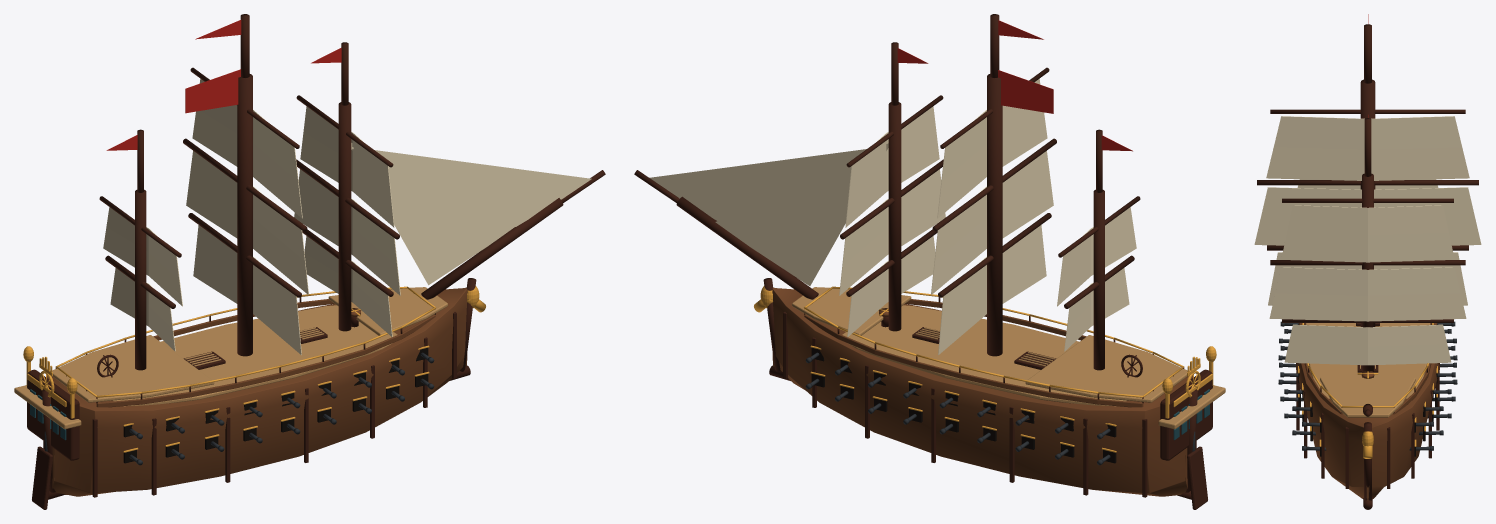
File: AgeOfSailWarship_FirstRate.fbx
3 renders of one model, left to right at view 1: azimuth 30°, elevation 25°; view 2: azimuth 150°, elevation 25°; view 3: azimuth 270°, elevation 25°, orthographic. The views are drawn at different scales.
Visible parts, largest first — view 1: Hull_Main_Lofted, Deck_Upper_Main, Jib_Inner, Jib_Outer, Main_SquareSail_1, Deck_Quarterdeck, Main_SquareSail_0, Main_SquareSail_2, Fore_SquareSail_1, Main_Mast, Fore_SquareSail_0, Fore_Mast (+15 smaller); view 2: Hull_Main_Lofted, Jib_Inner, Deck_Upper_Main, Jib_Outer, Main_SquareSail_1, Deck_Quarterdeck, Main_SquareSail_0, Main_SquareSail_2, Fore_SquareSail_1, Main_Mast, Fore_SquareSail_0, Fore_Mast (+15 smaller); view 3: Main_SquareSail_0, Fore_SquareSail_1, Fore_SquareSail_0, Hull_Main_Lofted, Fore_SquareSail_2, Main_SquareSail_1, Deck_Forecastle, Deck_Upper_Main, Main_Yard_1, Main_SquareSail_2, Fore_Yard_1, Main_Yard_0 (+8 smaller).
Boxes of the visible parts, left/top/right/bottom form: Hull_Main_Lofted: left=47, top=287, right=467, bottom=496; Deck_Upper_Main: left=113, top=305, right=397, bottom=406; Jib_Inner: left=351, top=143, right=514, bottom=285; Jib_Outer: left=351, top=147, right=591, bottom=226; Main_SquareSail_1: left=186, top=151, right=308, bottom=294; Deck_Quarterdeck: left=52, top=335, right=214, bottom=402; Main_SquareSail_0: left=192, top=79, right=302, bottom=218; Main_SquareSail_2: left=193, top=225, right=301, bottom=354; Fore_SquareSail_1: left=294, top=169, right=400, bottom=295; Main_Mast: left=237, top=74, right=252, bottom=356; Fore_SquareSail_0: left=300, top=106, right=394, bottom=227; Fore_Mast: left=338, top=102, right=351, bottom=331; Hull_Main_Lofted: left=772, top=287, right=1192, bottom=496; Jib_Inner: left=715, top=143, right=888, bottom=285; Deck_Upper_Main: left=842, top=305, right=1126, bottom=406; Jib_Outer: left=649, top=149, right=866, bottom=220; Main_SquareSail_1: left=931, top=151, right=1053, bottom=294; Deck_Quarterdeck: left=1025, top=335, right=1187, bottom=402; Main_SquareSail_0: left=937, top=79, right=1047, bottom=218; Main_SquareSail_2: left=938, top=225, right=1046, bottom=354; Fore_SquareSail_1: left=839, top=169, right=945, bottom=295; Main_Mast: left=987, top=74, right=1002, bottom=356; Fore_SquareSail_0: left=845, top=106, right=939, bottom=227; Fore_Mast: left=888, top=102, right=901, bottom=331; Main_SquareSail_0: left=1266, top=116, right=1469, bottom=180; Fore_SquareSail_1: left=1269, top=267, right=1466, bottom=321; Fore_SquareSail_0: left=1281, top=205, right=1454, bottom=262; Hull_Main_Lofted: left=1296, top=323, right=1439, bottom=500; Fore_SquareSail_2: left=1284, top=324, right=1451, bottom=365; Main_SquareSail_1: left=1254, top=187, right=1481, bottom=245; Deck_Forecastle: left=1320, top=377, right=1415, bottom=417; Deck_Upper_Main: left=1305, top=323, right=1430, bottom=398; Main_Yard_1: left=1257, top=180, right=1478, bottom=185; Main_SquareSail_2: left=1268, top=252, right=1467, bottom=305; Fore_Yard_1: left=1270, top=260, right=1465, bottom=265; Main_Yard_0: left=1270, top=109, right=1465, bottom=113.
Size of the model in its own units: 3637 by 2705 by 1360.
